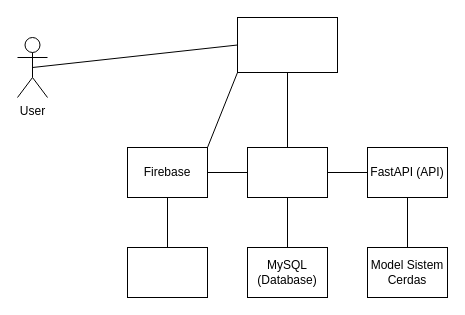
The diagram is 465 pixels wide and 315 high, and some of its shapes have lost their labels. The centre of each missing label's shape, as x and y in pixels:
"Komponen IoT (Sidik Jari)" goes at (167,272).
"Laravel (API)" goes at (287,172).
"React" goes at (287,44).
